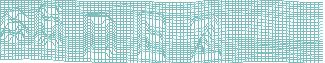6: (33, 1, 64, 50)
D: (81, 11, 117, 60)
E: (135, 10, 167, 62)
Z: (187, 13, 222, 62)
s: (1, 6, 30, 45)
